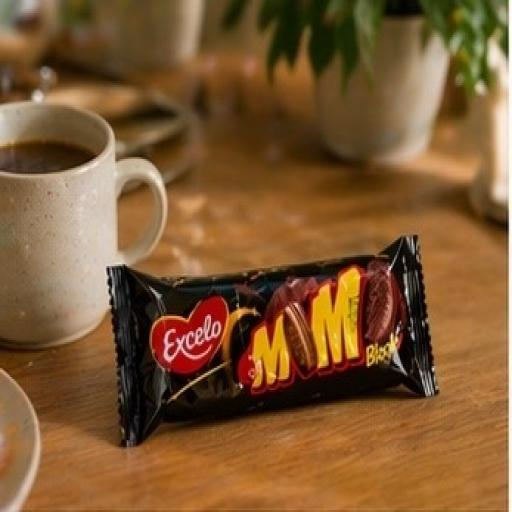MOMO: (82, 214, 481, 435)
